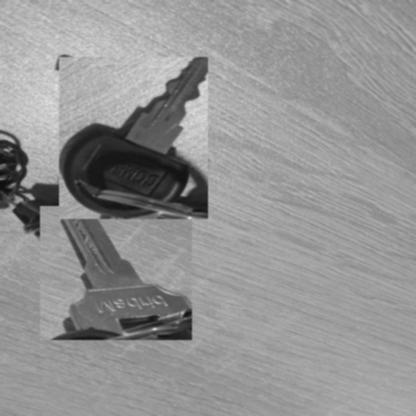key: (59, 56, 208, 218), (41, 206, 192, 340)
